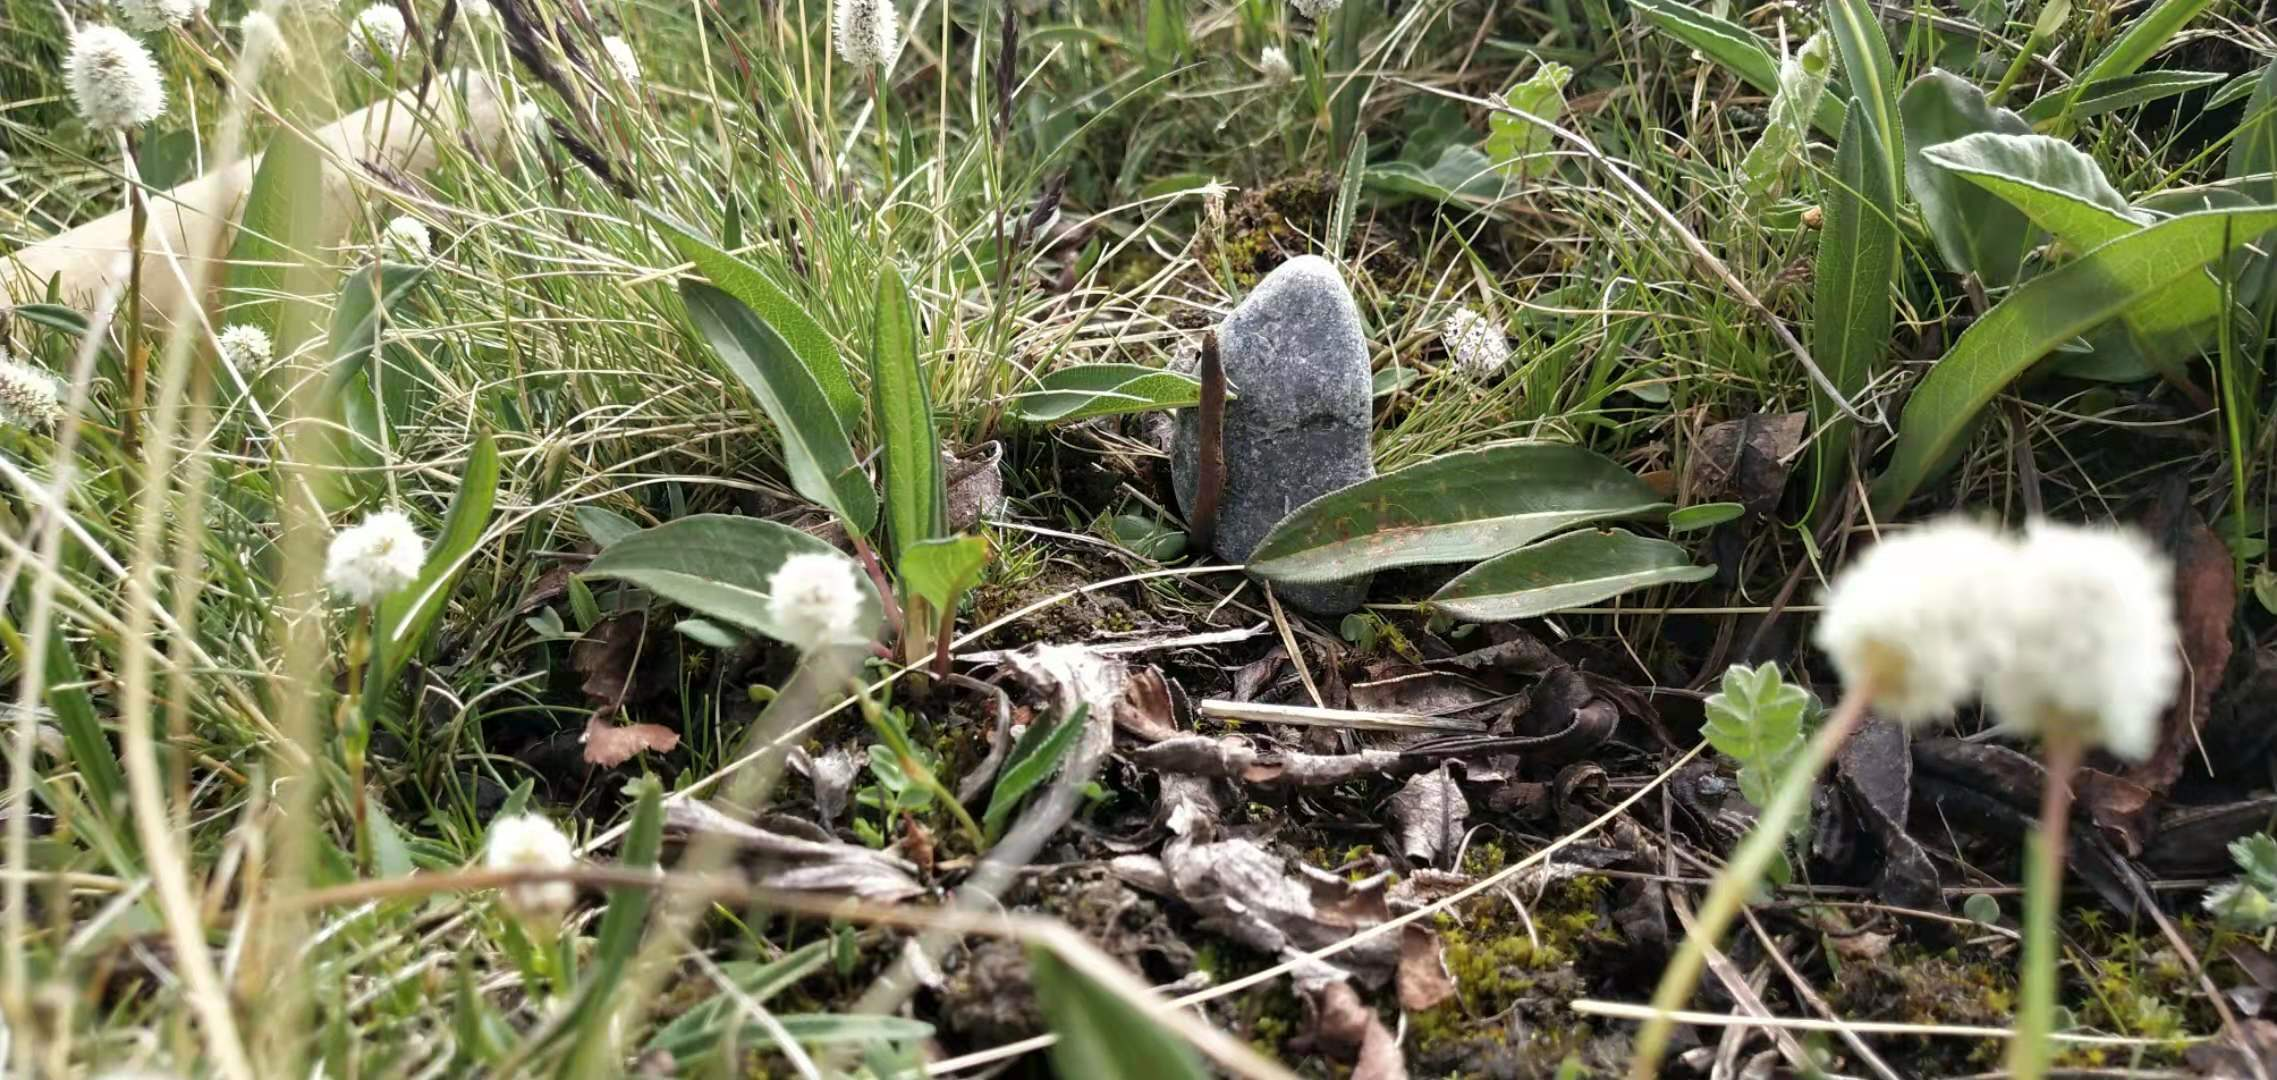cpf: (1181, 328, 1231, 562)
